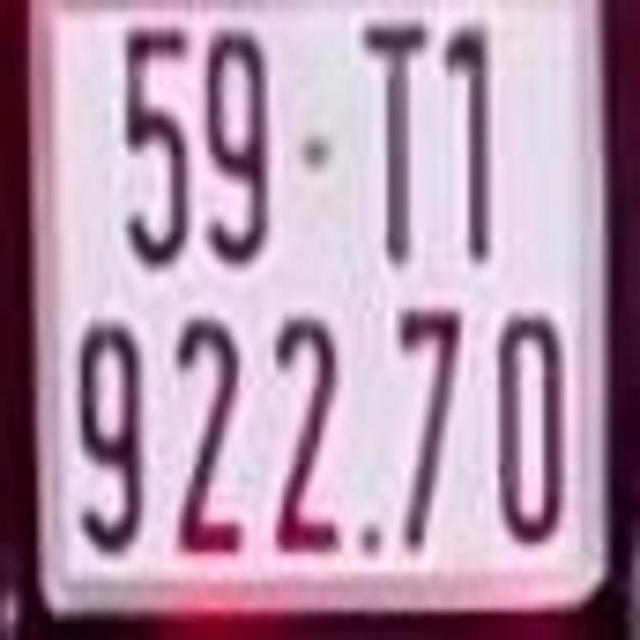0: (490, 303, 575, 555)
1: (439, 17, 504, 266)
2: (268, 304, 344, 562), (168, 311, 245, 562)
5: (119, 24, 194, 267)
7: (391, 284, 469, 548)
9: (197, 24, 275, 270), (72, 315, 148, 560)
T: (359, 13, 433, 262)
